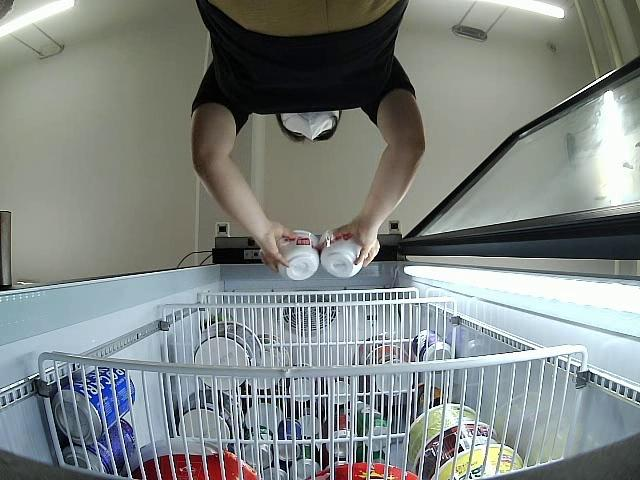00_hand: (334, 221, 383, 270), (259, 221, 298, 276)
09_yukGaeJang: (273, 231, 322, 282), (320, 227, 367, 280)
